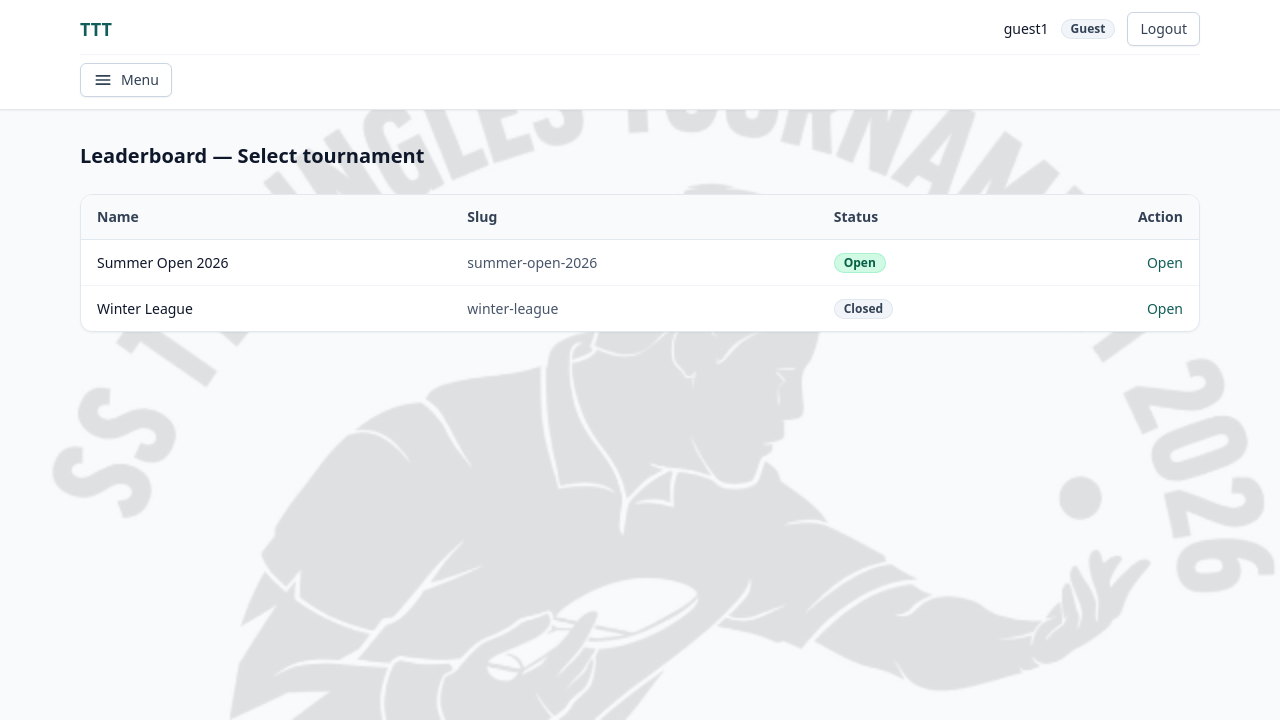
Scenario: Leaderboard tournament picker › opens the leaderboard screen for a tournament
This screenshot has width=1280, height=720.
Expected: the heading "Leaderboard — Select tournament" is shown, [80, 142, 424, 170]
Expected: the text "Summer Open 2026" is shown, [81, 240, 451, 286]
Click the link "Open" in the row of "Summer Open 2026" at point(1165, 262), box [1147, 252, 1183, 272]
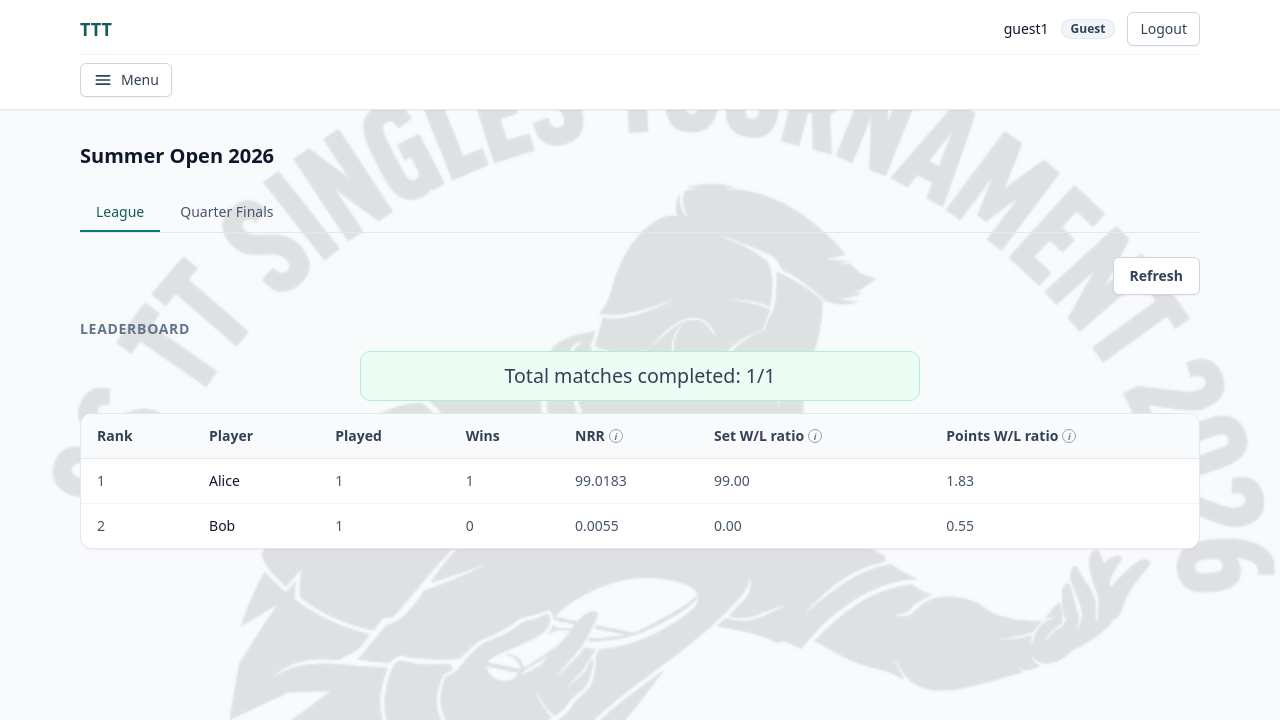
Expected: the column heading "Rank" is shown, [81, 414, 193, 459]
Expected: the text "Alice" is shown, [193, 459, 319, 504]
